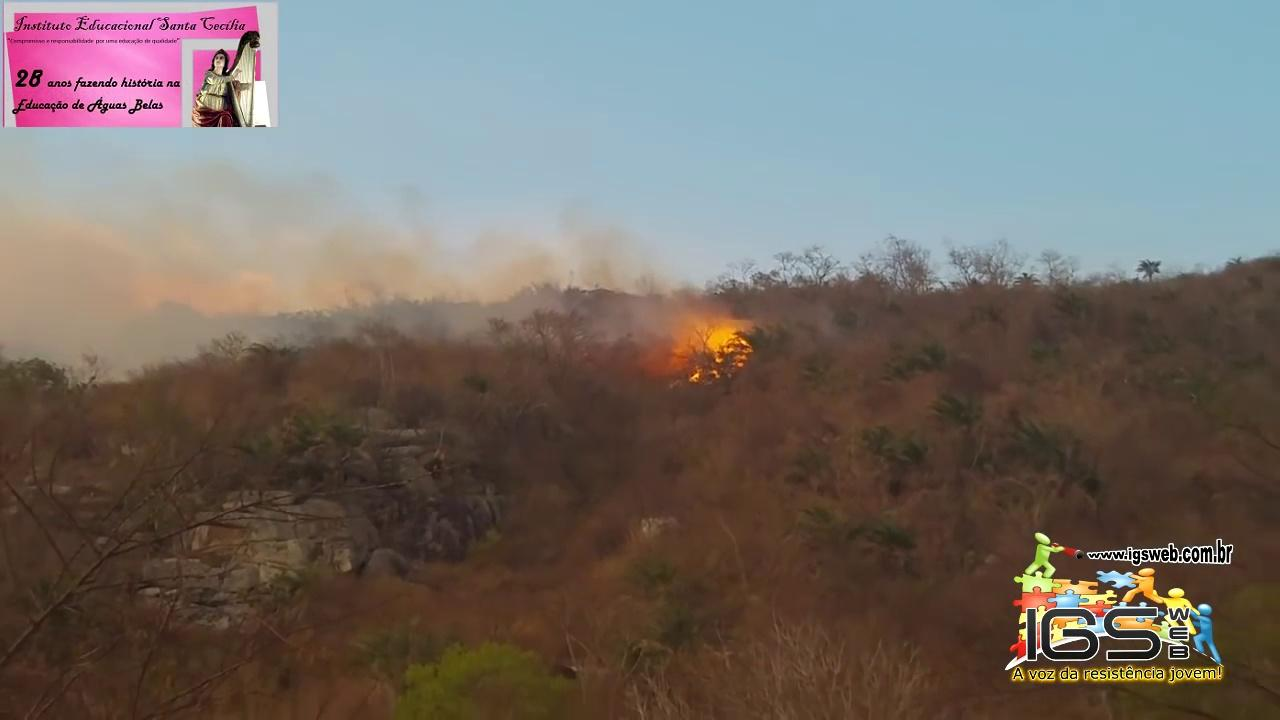fire: (690, 320, 750, 369)
